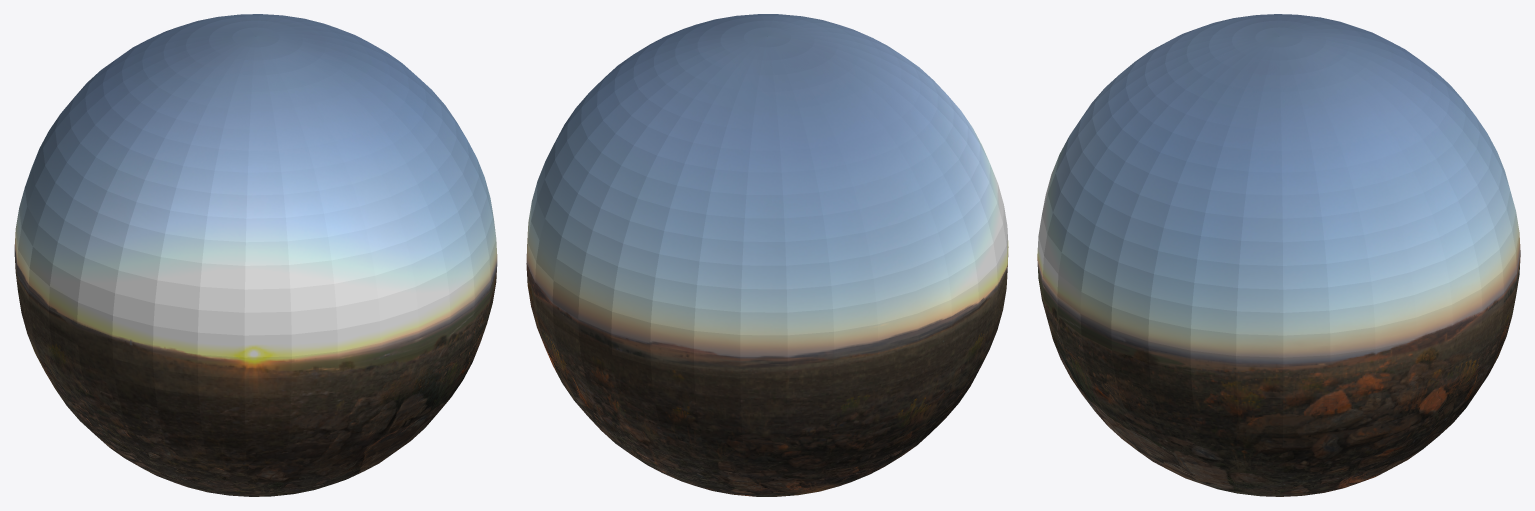
File: city.gltf
3 renders of one model, left to right at view 1: azimuth 30°, elevation 25°; view 2: azimuth 150°, elevation 25°; view 3: azimuth 270°, elevation 25°, orthographic.
Parts seen in each view (by area): view 1: Sphere.002; view 2: Sphere.002; view 3: Sphere.002.
Boxes of the visible parts, box(x1,y1,x2,y2) form: Sphere.002: box(14, 14, 497, 496); Sphere.002: box(526, 14, 1008, 496); Sphere.002: box(1037, 14, 1520, 496).
Size of what is drawn, in the model's own units: 10632 by 10633 by 10632.
Materials: 9 (5 with a texture image).
